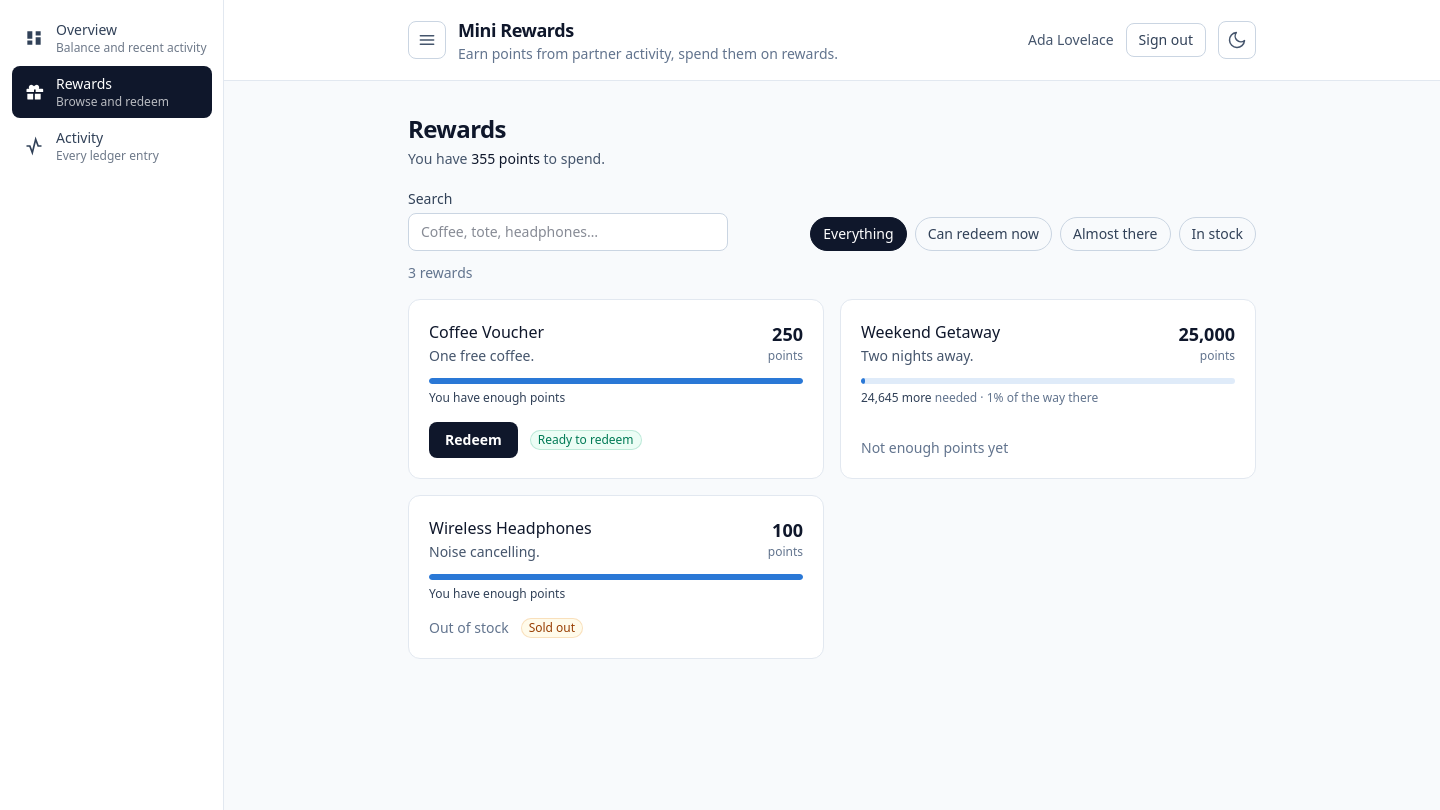
Test: redeeming › sends exactly one idempotency key and reports success
Click the button "Redeem".
click(473, 440)  # box [429, 422, 518, 458]
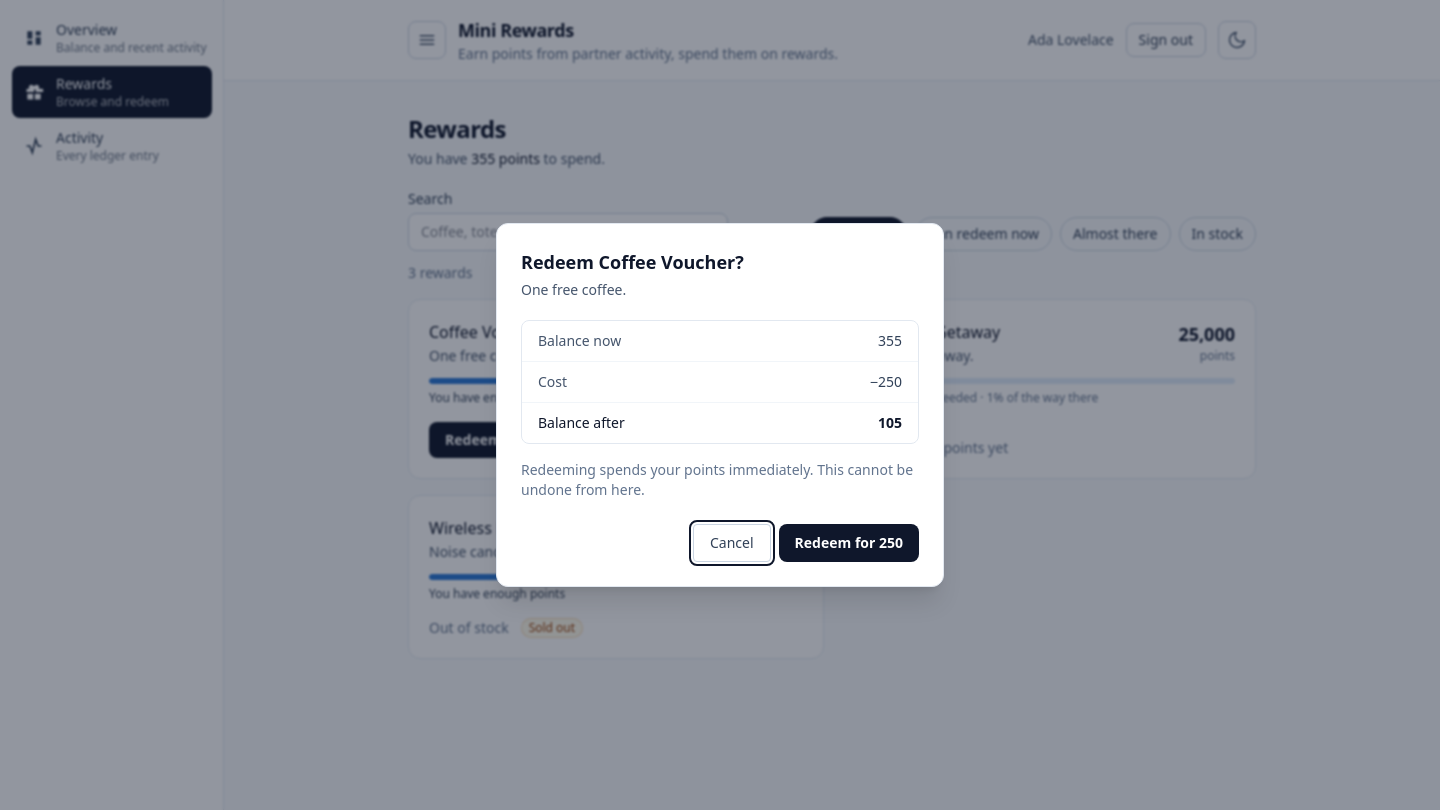
Click the button "Redeem for 250".
click(849, 543)  # box [779, 524, 919, 562]
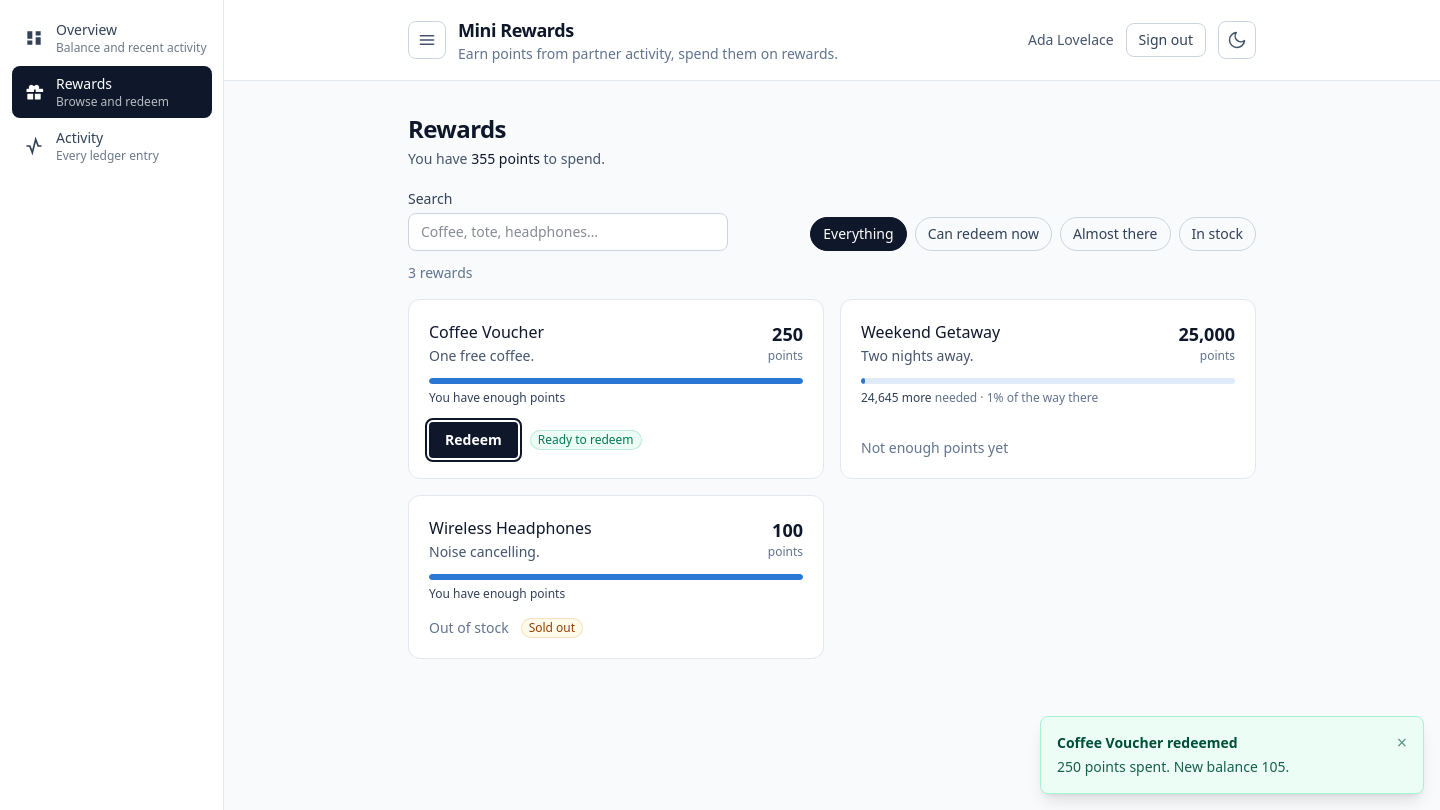
Now the text "Coffee Voucher redeemed" is shown, box [1057, 733, 1238, 752]
